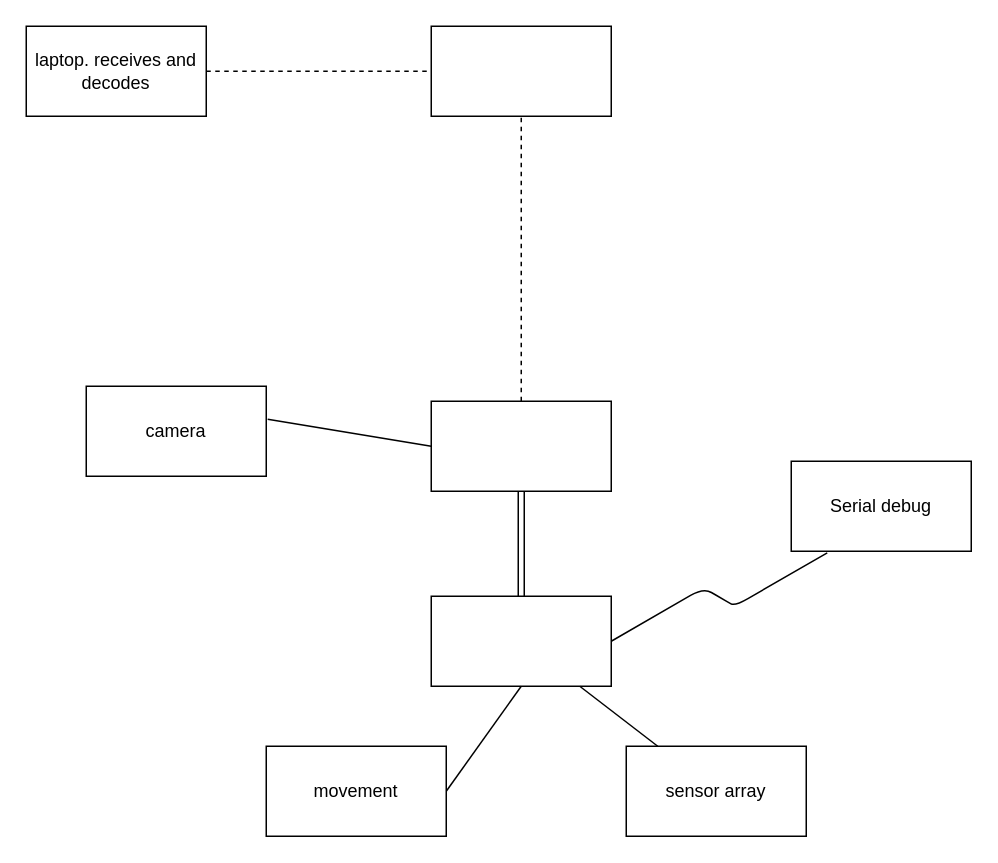
This 998x863 diagram has some shape labels left out. Here are the shapes that lost their labels. From the top down, the centre of each, then its label:
At point (520, 70): "Packet radio".
At point (520, 445): "RPI".
At point (520, 640): "Arduino".
